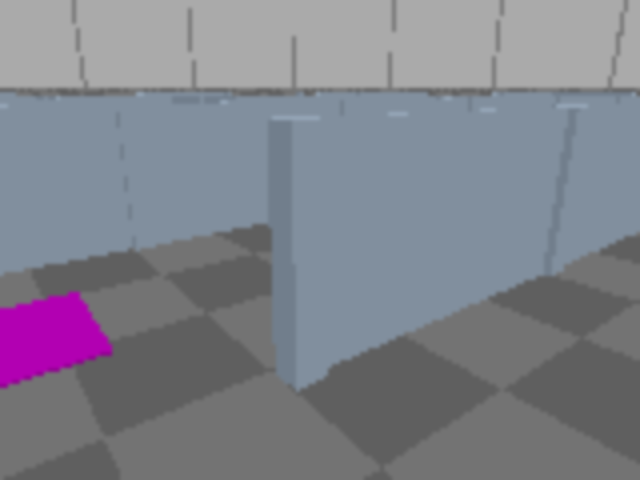goal_zone: (0, 292, 115, 426)
